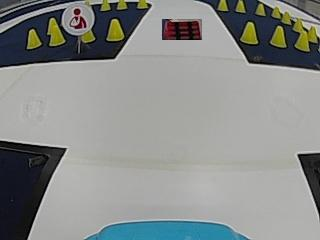cone: (48, 18, 65, 45), (105, 19, 124, 41), (240, 22, 258, 44), (271, 26, 286, 47), (295, 29, 309, 51), (26, 28, 41, 48), (81, 28, 95, 42), (217, 0, 228, 11), (235, 1, 246, 12), (255, 3, 265, 15), (271, 6, 281, 18), (100, 0, 110, 11), (116, 0, 127, 10), (136, 0, 148, 9), (281, 11, 290, 23)
patient: (62, 4, 93, 29)
